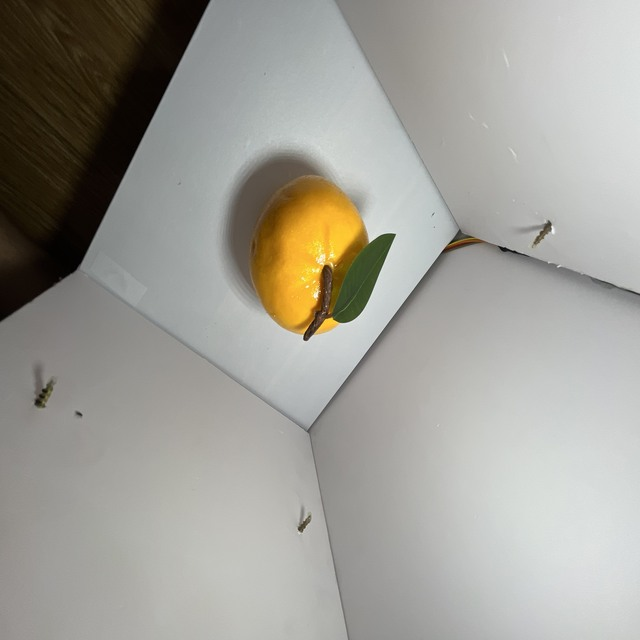Cam vang: (244, 177, 374, 338)
